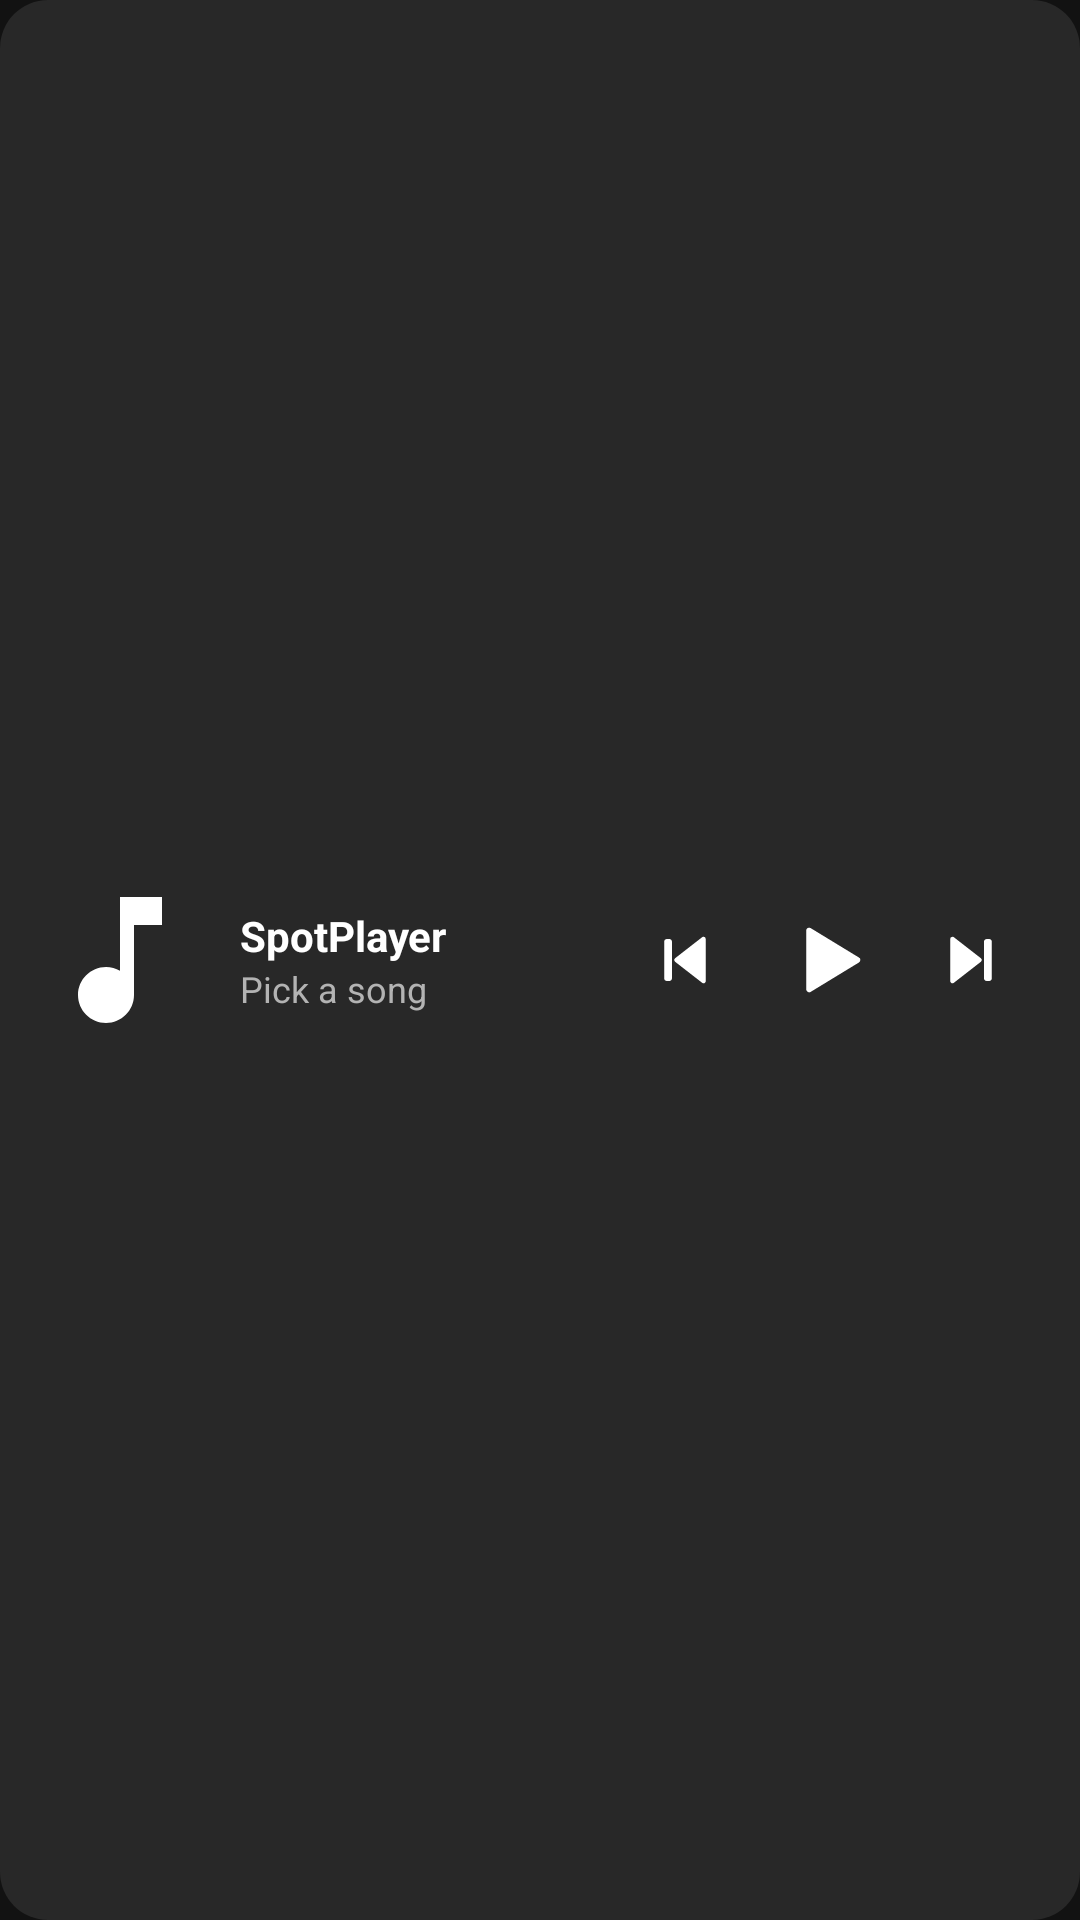

Icon click points for this 1080w x 1920h phone screenshot, format point (x, y):
Album art: point (120, 960)
Next: point (971, 960)
Play or pause: point (833, 960)
Previous: point (685, 960)
